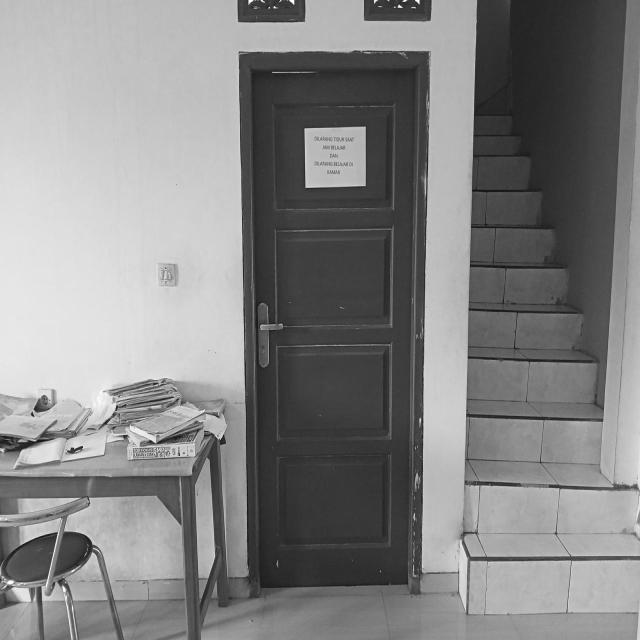door: (235, 45, 433, 598)
